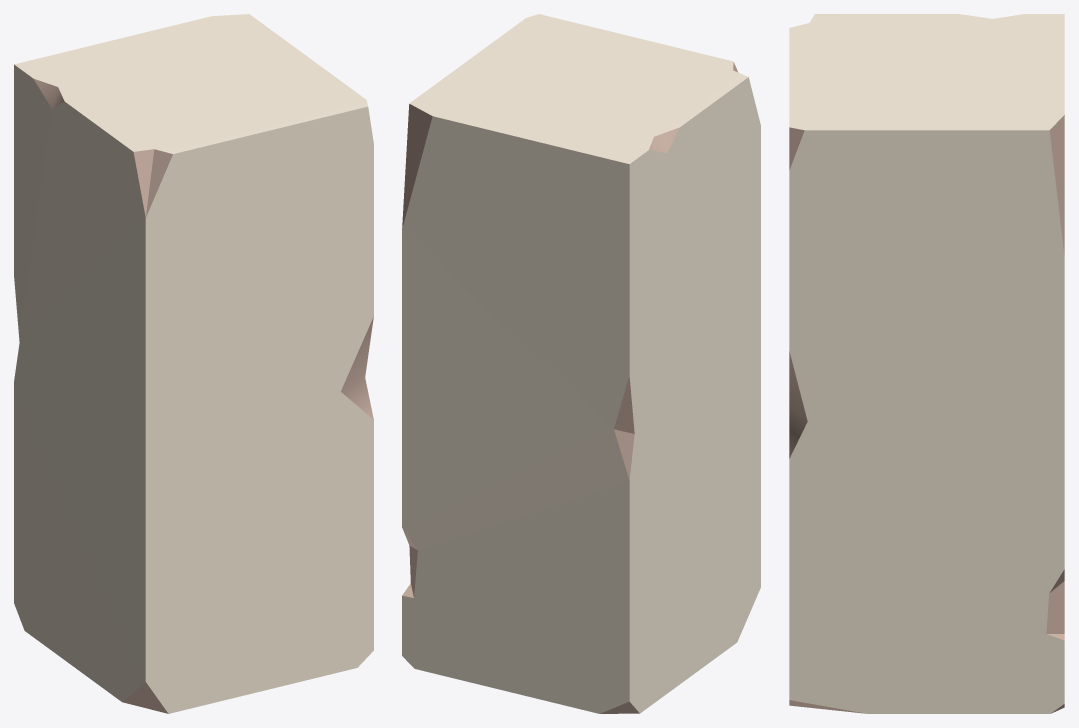
Rendered from SR_Pillar_01.fbx.
3 renders of one model, left to right at view 1: azimuth 30°, elevation 25°; view 2: azimuth 150°, elevation 25°; view 3: azimuth 270°, elevation 25°, orthographic. The views are drawn at different scales.
Parts seen in each view (by area): view 1: SR_Pillar_01; view 2: SR_Pillar_01; view 3: SR_Pillar_01.
Boxes of the visible parts, x1,y1,x2,y2 form: SR_Pillar_01: (14, 14, 373, 713); SR_Pillar_01: (402, 14, 760, 713); SR_Pillar_01: (789, 14, 1064, 713).
Size of the model in its own units: 129 by 301 by 129.
